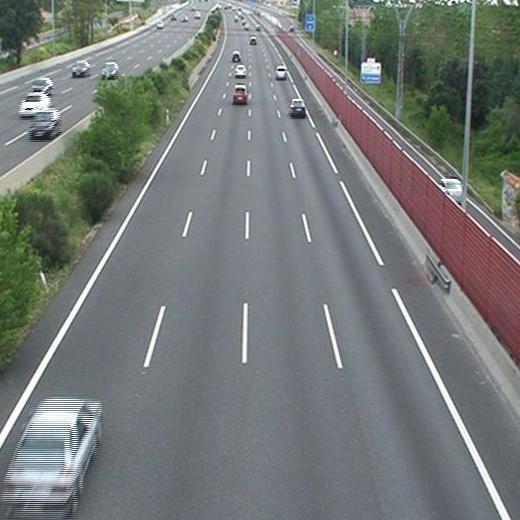car: (2, 398, 100, 511), (290, 99, 305, 116), (233, 86, 247, 103), (235, 64, 247, 76), (276, 66, 287, 79), (231, 52, 240, 61), (248, 37, 256, 45)
